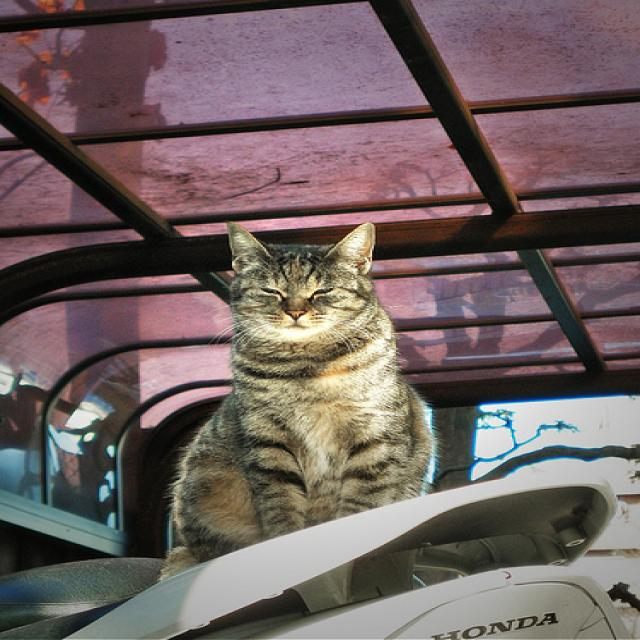motor: (0, 471, 635, 640)
